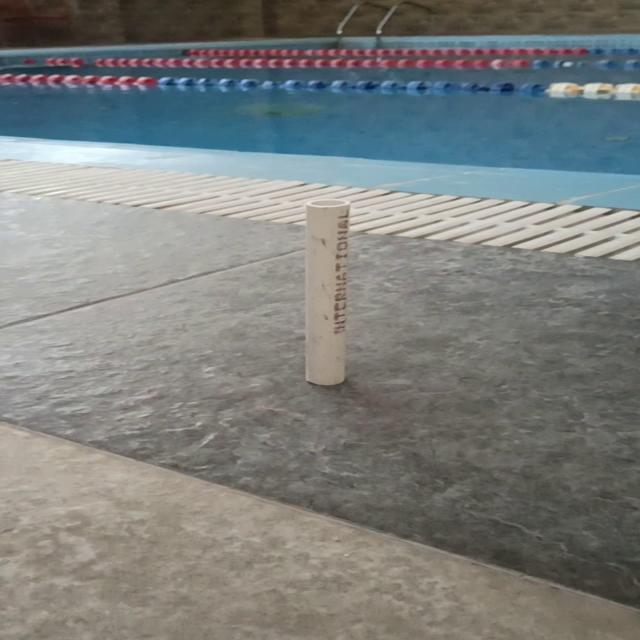Cube: (301, 198, 351, 386)
